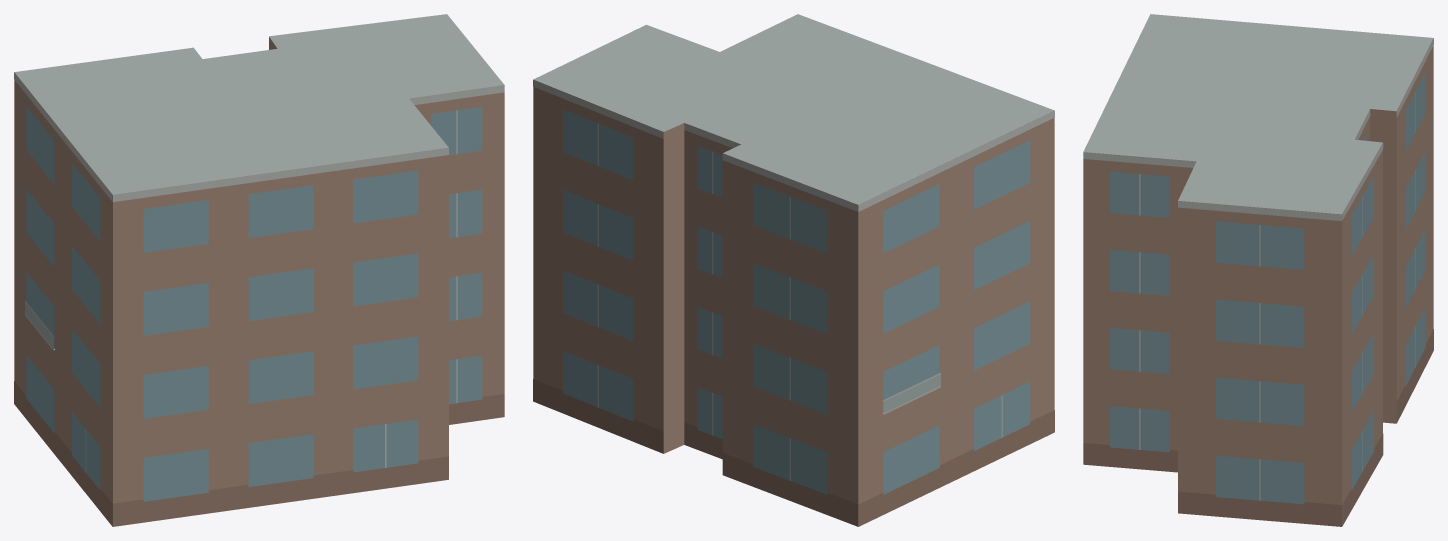
The model's file is survey-upis-32707014.glb.
3 renders of one model, left to right at view 1: azimuth 30°, elevation 25°; view 2: azimuth 150°, elevation 25°; view 3: azimuth 270°, elevation 25°, orthographic. The views are drawn at different scales.
Parts seen in each view (by area): view 1: survey-upis-32707014.tmp; view 2: survey-upis-32707014.tmp; view 3: survey-upis-32707014.tmp.
Boxes of the visible parts, left/top/right/bottom form: survey-upis-32707014.tmp: left=14, top=14, right=504, bottom=526; survey-upis-32707014.tmp: left=533, top=14, right=1054, bottom=526; survey-upis-32707014.tmp: left=1083, top=14, right=1433, bottom=526.
Bounding box in the file's own units: 15.34 × 11.15 × 11.35.
